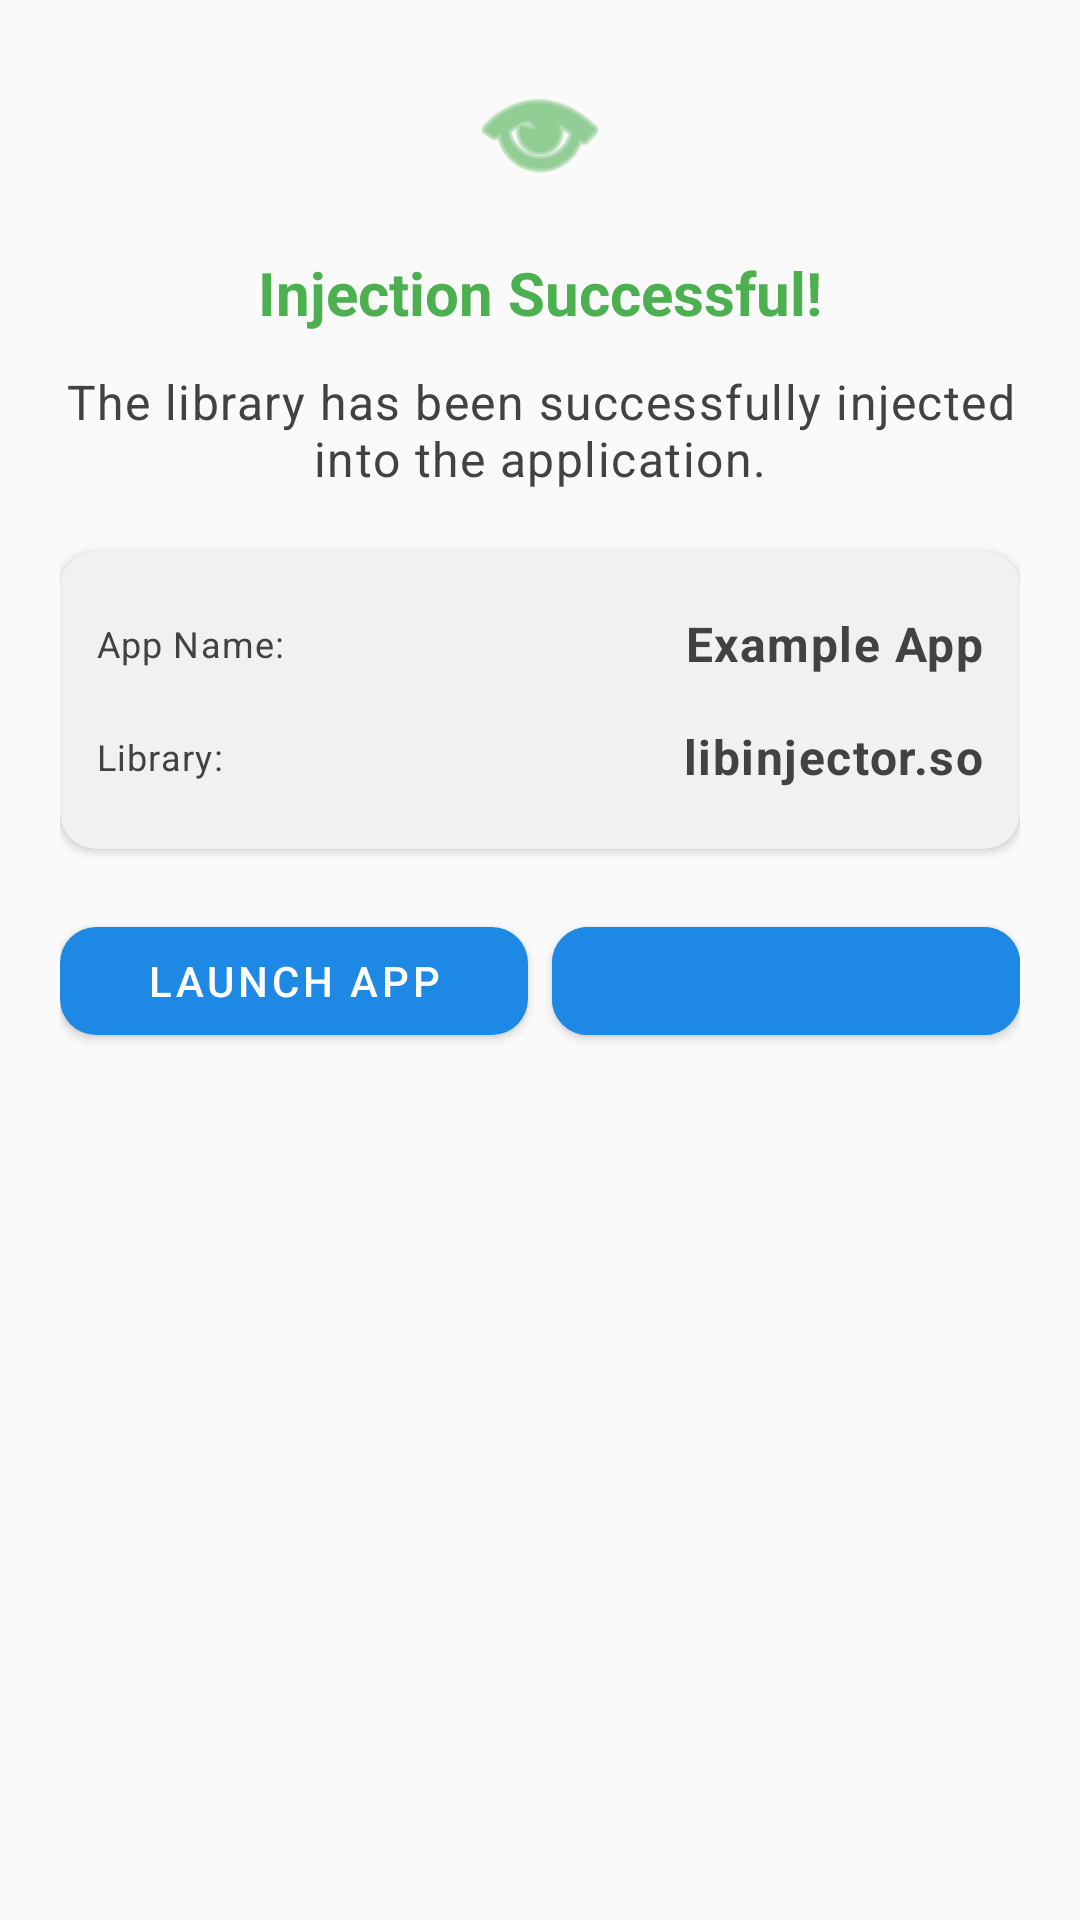

Where icons sit on this 1080×1920 app screen, as BBox(x1, y1, x2, y2):
view: BBox(481, 99, 599, 173)
